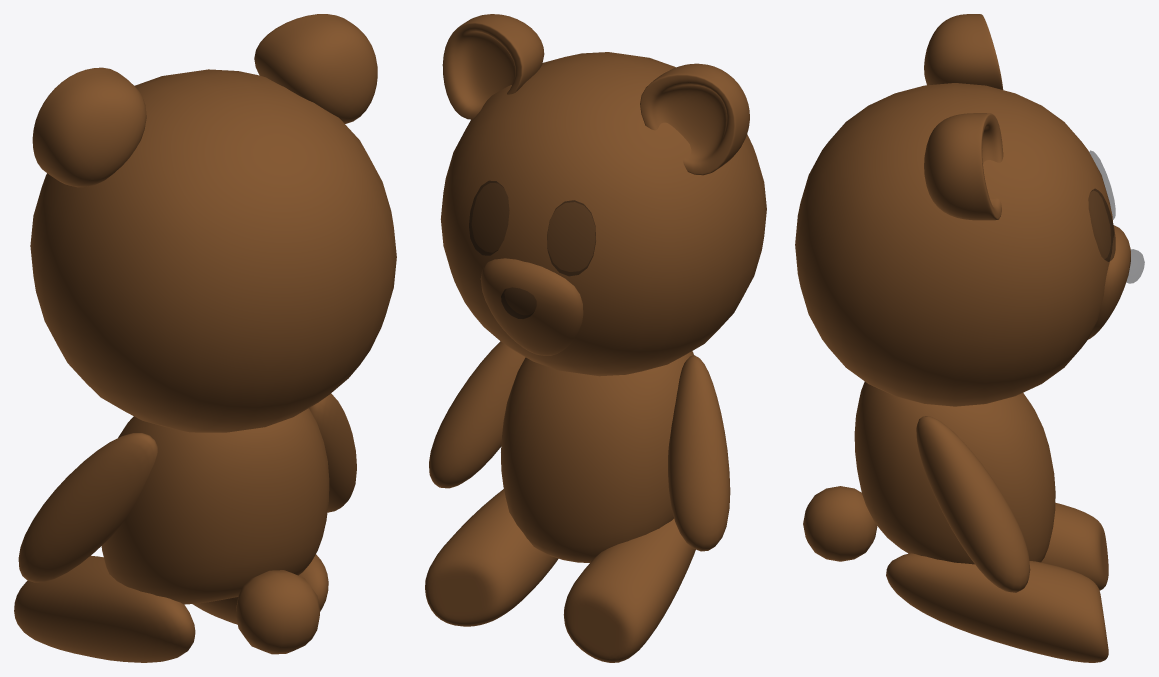
The model's file is TeddyBear.fbx.
3 views of the same model, side by side, from view 1: azimuth 30°, elevation 25°; view 2: azimuth 150°, elevation 25°; view 3: azimuth 270°, elevation 25° (orthographic). The views are drawn at different scales.
Parts seen in each view (by area): view 1: Cube, Cube.007, Cube.003, Cube.006, Cube.005, Cube.008; view 2: Cube, Cube.007, Cube.006, Cube.005, Cube.003, Cube.001, Cube.004, Cube.002; view 3: Cube, Cube.007, Cube.006, Cube.003, Cube.005, Cube.008, Cube.001, Cube.004.
Boxes of the visible parts, left/top/right/bottom form: Cube: left=30, top=69, right=396, bottom=432; Cube.007: left=101, top=408, right=329, bottom=604; Cube.003: left=32, top=14, right=377, bottom=187; Cube.006: left=14, top=554, right=328, bottom=662; Cube.005: left=18, top=393, right=356, bottom=582; Cube.008: left=235, top=570, right=320, bottom=654; Cube: left=440, top=52, right=766, bottom=376; Cube.007: left=501, top=351, right=693, bottom=562; Cube.006: left=425, top=489, right=695, bottom=662; Cube.005: left=429, top=341, right=730, bottom=551; Cube.003: left=442, top=14, right=749, bottom=175; Cube.001: left=480, top=258, right=583, bottom=355; Cube.004: left=469, top=181, right=595, bottom=275; Cube.002: left=501, top=287, right=536, bottom=318; Cube: left=795, top=83, right=1113, bottom=406; Cube.007: left=854, top=381, right=1055, bottom=564; Cube.006: left=886, top=502, right=1108, bottom=662; Cube.003: left=924, top=14, right=1003, bottom=220; Cube.005: left=916, top=416, right=1030, bottom=592; Cube.008: left=803, top=486, right=877, bottom=561; Cube.001: left=1088, top=225, right=1130, bottom=339; Cube.004: left=1088, top=150, right=1115, bottom=261.
Bounding box in the file's own units: 177 × 320 × 183.
